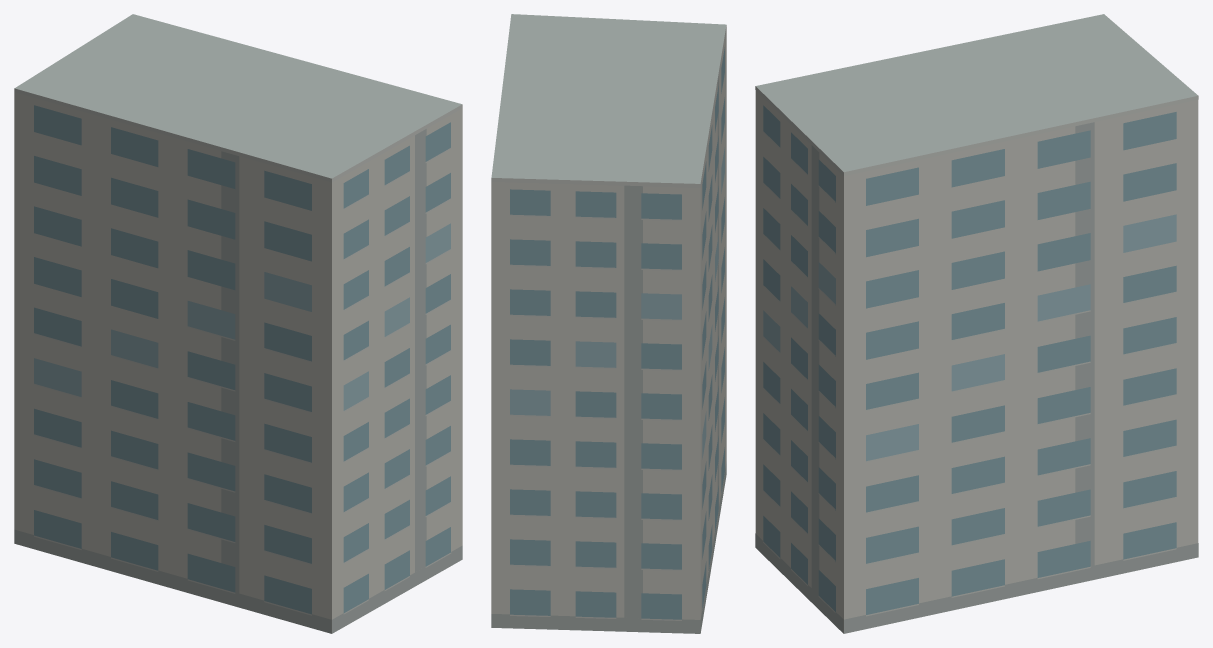
Rendered from residential-d9514ec9-1a8e-42c3-b05a-2591bb186300.glb.
The picture shows the model from 3 angles, left to right: view 1: azimuth 30°, elevation 25°; view 2: azimuth 150°, elevation 25°; view 3: azimuth 270°, elevation 25°; orthographic projection. The views are drawn at different scales.
Parts seen in each view (by area): view 1: residential-d9514ec9-1a8e-42c3-b05a-2591bb186300.tmp; view 2: residential-d9514ec9-1a8e-42c3-b05a-2591bb186300.tmp; view 3: residential-d9514ec9-1a8e-42c3-b05a-2591bb186300.tmp.
Part boxes in pixels (x1=…): residential-d9514ec9-1a8e-42c3-b05a-2591bb186300.tmp: x1=14, y1=14, x2=462, y2=633; residential-d9514ec9-1a8e-42c3-b05a-2591bb186300.tmp: x1=491, y1=14, x2=726, y2=633; residential-d9514ec9-1a8e-42c3-b05a-2591bb186300.tmp: x1=755, y1=14, x2=1198, y2=633.
Size of the model in its own units: 20.59 by 28 by 24.36.
